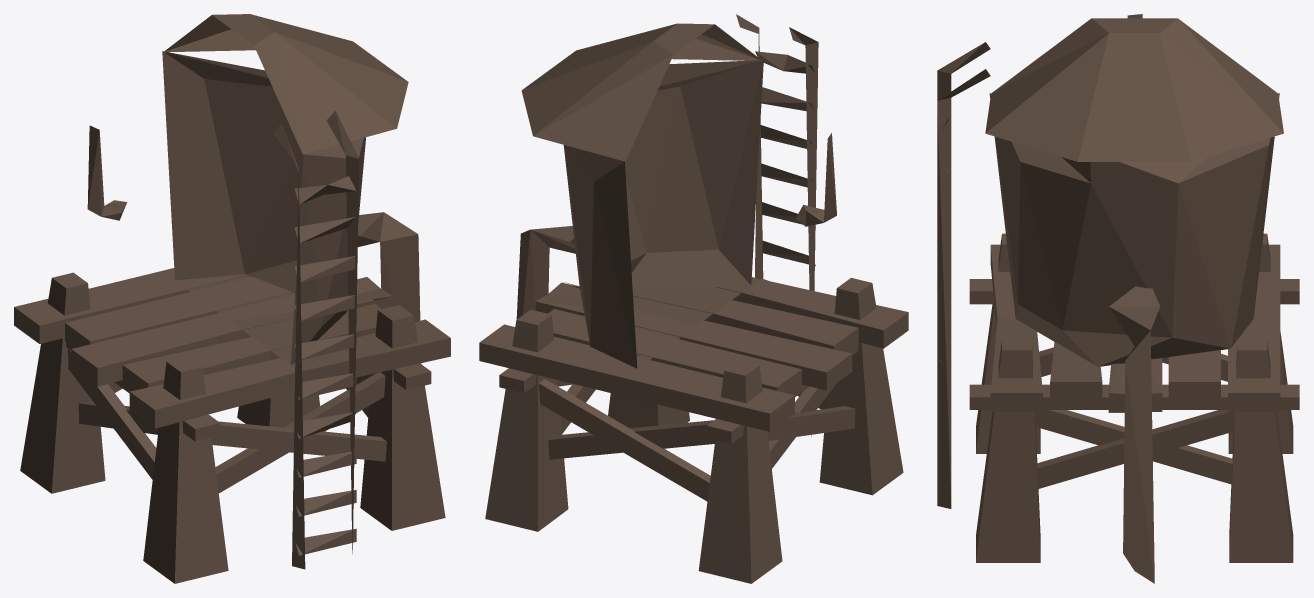
The model's file is water-tower.zfix-v14.lod2.glb.
3 renders of one model, left to right at view 1: azimuth 30°, elevation 25°; view 2: azimuth 150°, elevation 25°; view 3: azimuth 270°, elevation 25°, orthographic. The views are drawn at different scales.
Parts seen in each view (by area): view 1: defaultMaterial; view 2: defaultMaterial; view 3: defaultMaterial.
Boxes of the visible parts, x1,y1,x2,y2 form: defaultMaterial: [14, 14, 450, 583]; defaultMaterial: [479, 14, 908, 583]; defaultMaterial: [937, 14, 1299, 583].
Bounding box in the file's own units: 4.94 × 6.6 × 4.55.
